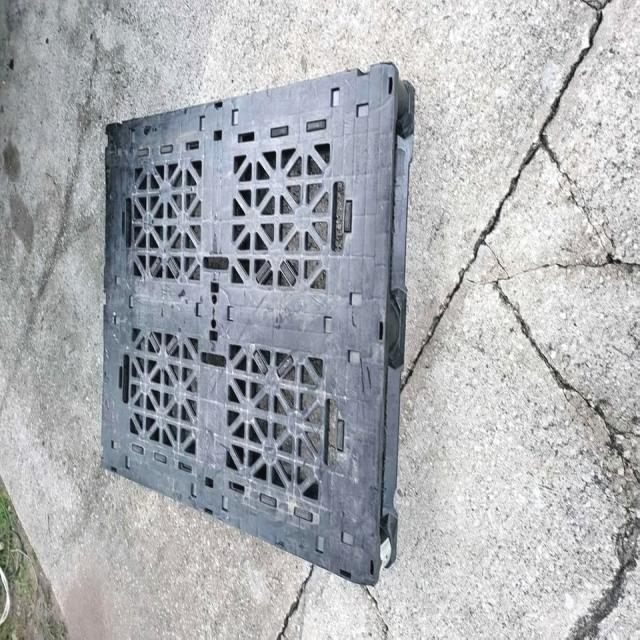igps: (98, 59, 415, 588)
